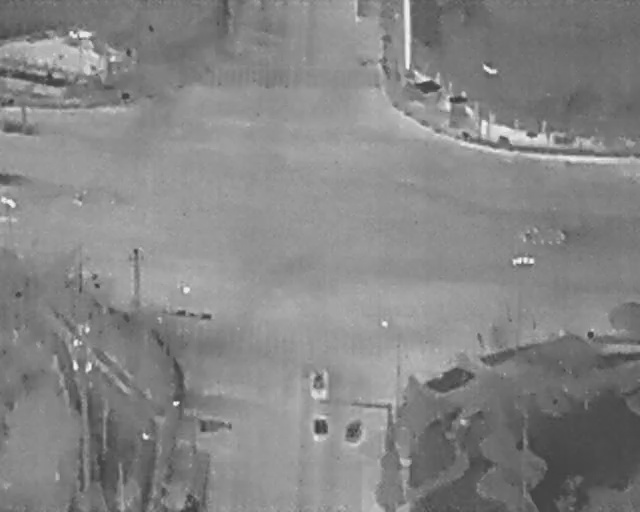Car: (339, 413, 370, 448), (306, 369, 331, 401), (311, 415, 332, 441)
